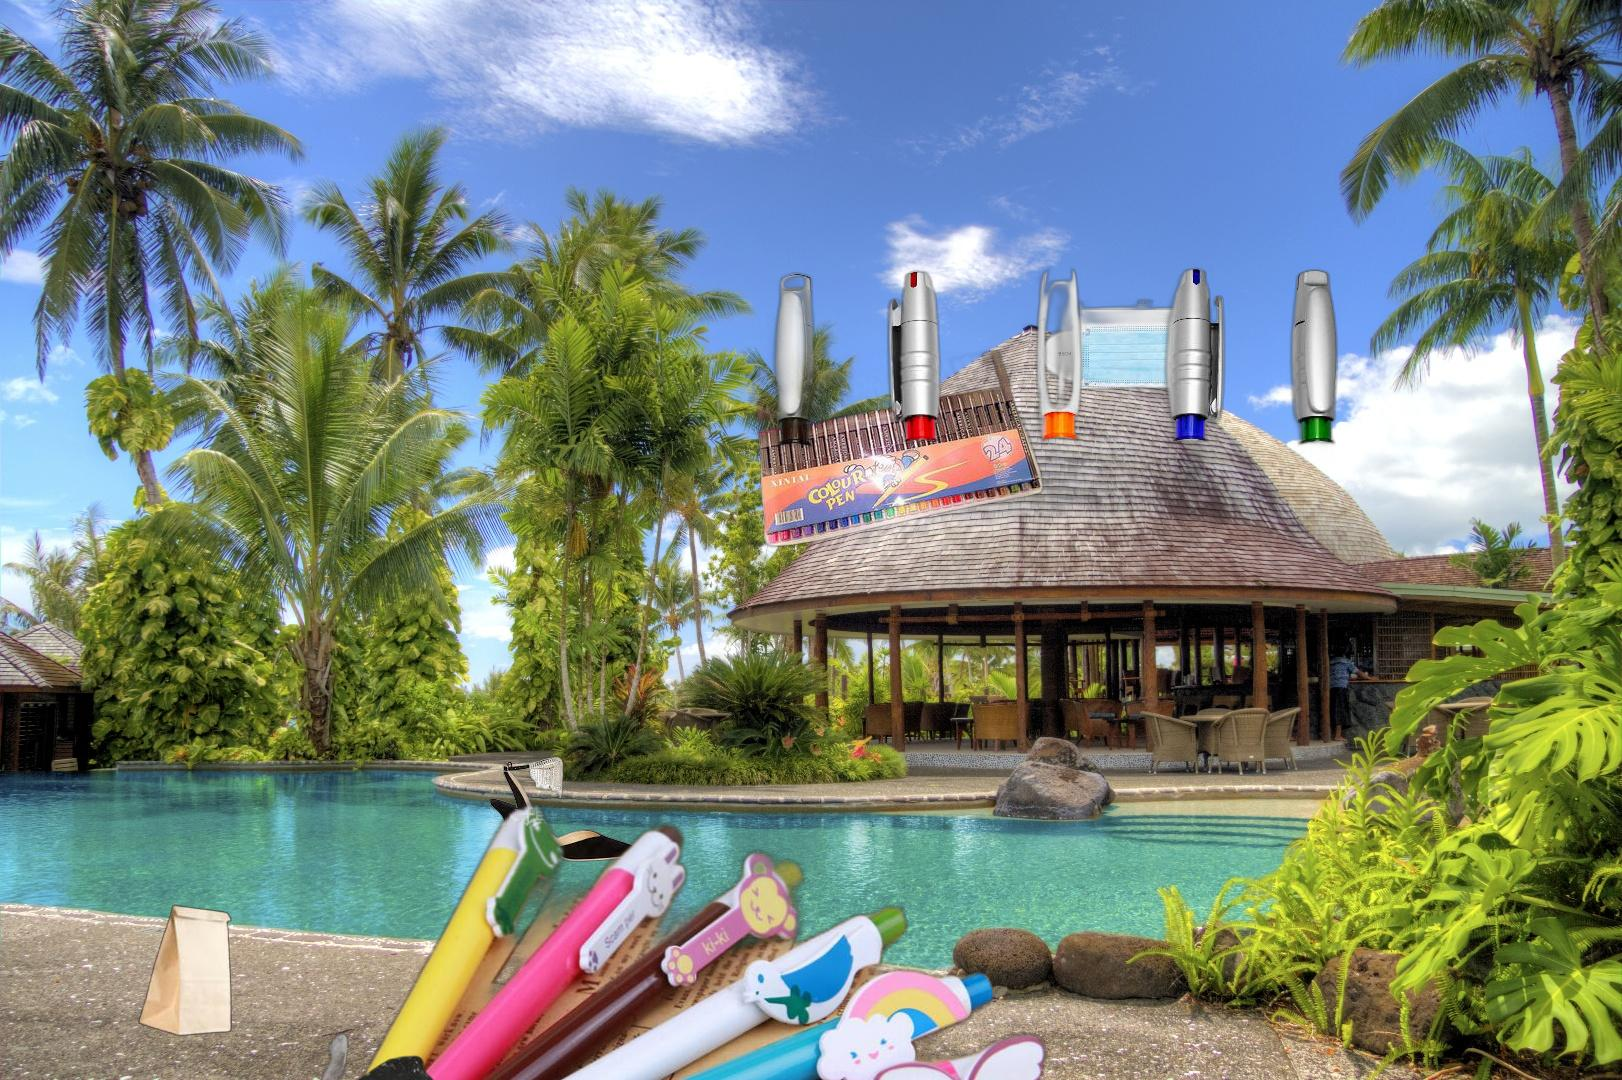paper-bag: (137, 902, 235, 1039)
penholder: (758, 264, 1358, 674), (323, 795, 1052, 1080), (752, 305, 1047, 549)
plastic-bag: (297, 1030, 490, 1080)
shoes: (487, 754, 648, 864)
trash: (1034, 236, 1213, 397)
